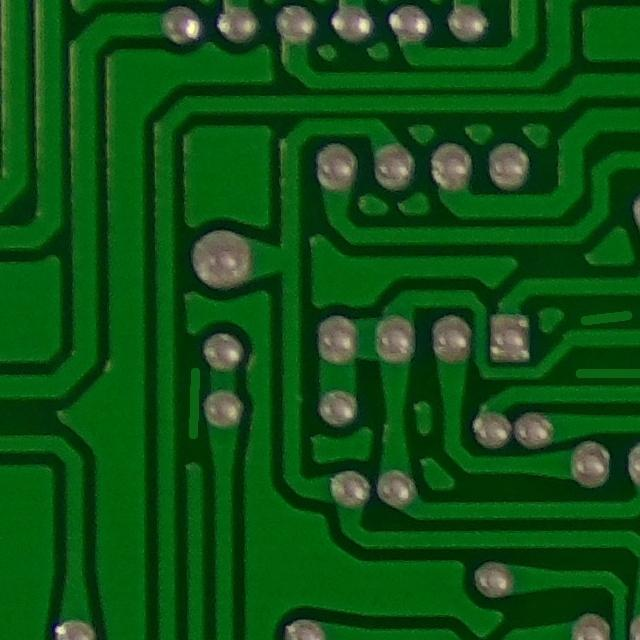spurious_copper: (176, 355, 217, 446), (568, 357, 640, 392), (571, 301, 640, 336)
